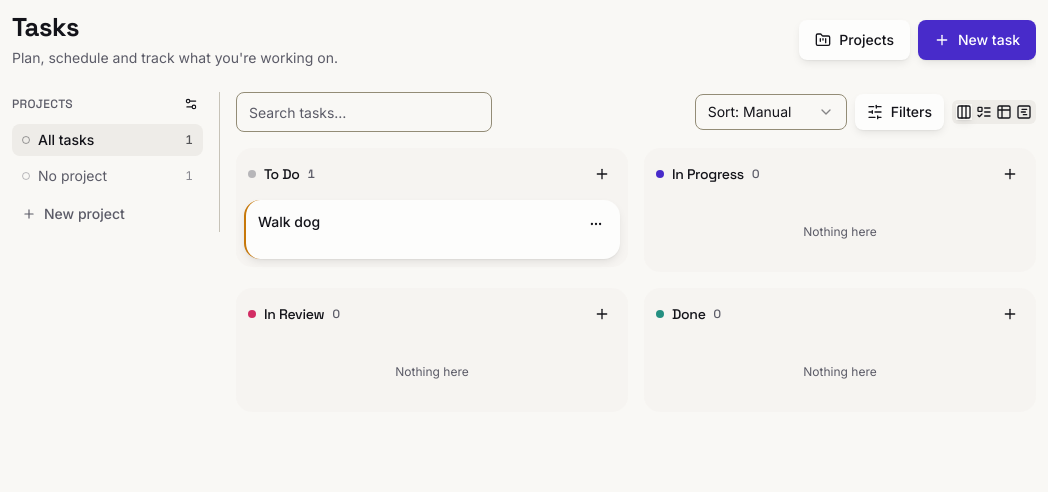
Test case: TasksPage › renders a list, not the table, in list view
Click the radio button named "List view" at (984, 112), box x1=976 y1=104 x2=992 y2=120
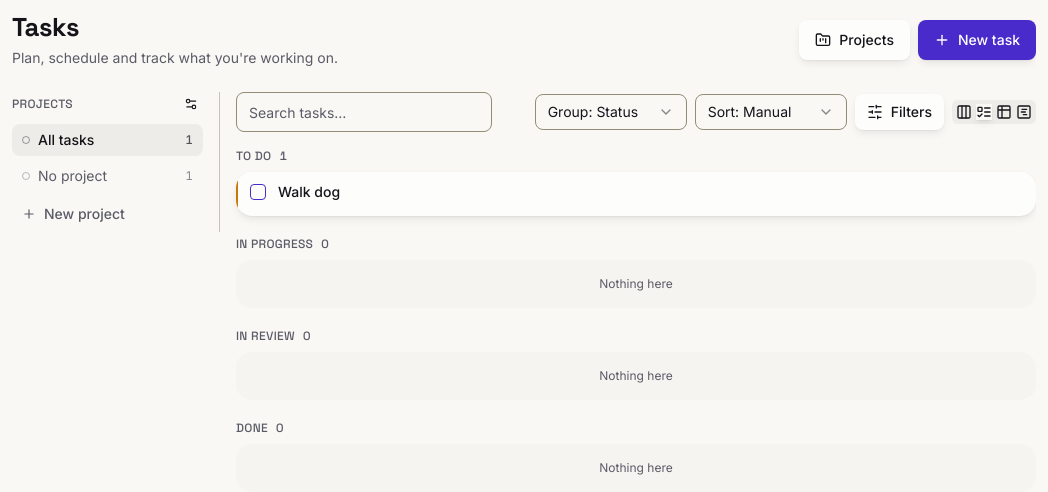
Expected: the checkbox named "Complete Walk dog" is shown, x1=250 y1=184 x2=266 y2=200
